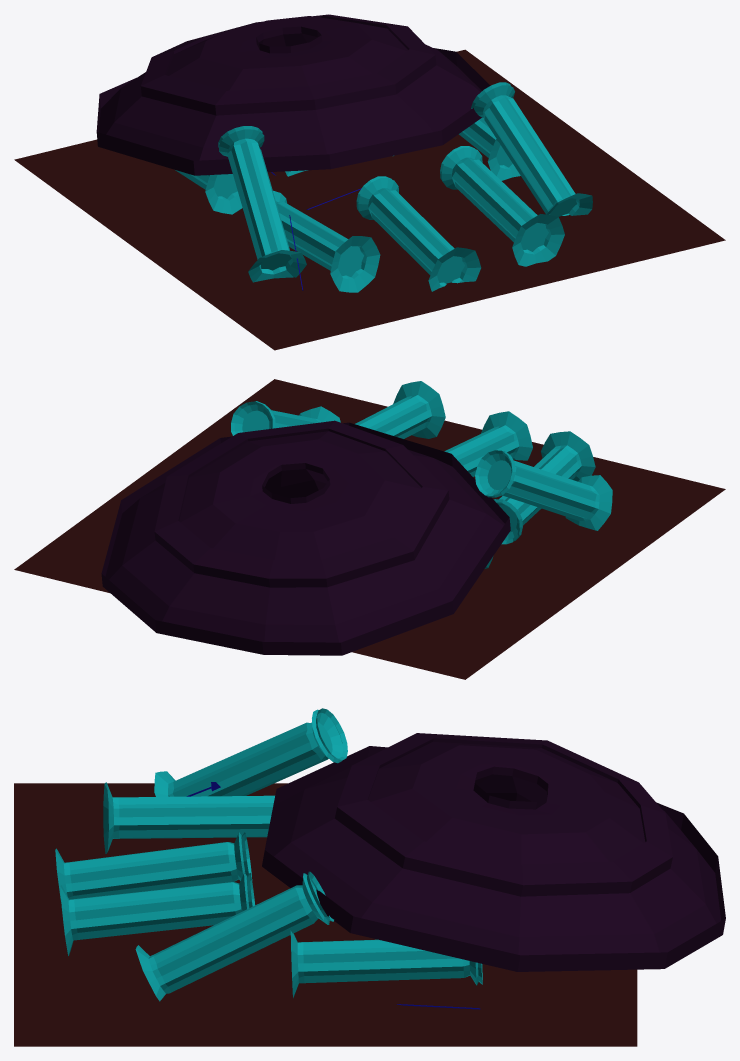
Rendered from SpearYard3d.obj.
The picture shows the model from 3 angles, top to bottom: view 1: azimuth 30°, elevation 25°; view 2: azimuth 150°, elevation 25°; view 3: azimuth 270°, elevation 25°; orthographic projection. The views are drawn at different scales.
Visible parts, largest first — view 1: Plane, Plane.012_Plane.013, Plane.004_Plane.015, Plane.002, Plane.005_Plane.016, Plane.003_Plane.014, Plane.001_Plane.012, Plane.006_Plane.017, Plane.009_Plane.020; view 2: Plane.012_Plane.013, Plane, Plane.002, Plane.004_Plane.015, Plane.001_Plane.012, Plane.003_Plane.014, Plane.005_Plane.016; view 3: Plane.012_Plane.013, Plane, Plane.005_Plane.016, Plane.004_Plane.015, Plane.003_Plane.014, Plane.002, Plane.001_Plane.012, Plane.006_Plane.017.
Part boxes in pixels (x1,y1,x2,y2): Plane: (14, 49, 725, 350); Plane.012_Plane.013: (96, 14, 490, 175); Plane.004_Plane.015: (440, 146, 564, 266); Plane.002: (218, 126, 306, 282); Plane.005_Plane.016: (471, 82, 592, 216); Plane.003_Plane.014: (356, 176, 481, 291); Plane.001_Plane.012: (273, 190, 380, 292); Plane.006_Plane.017: (459, 118, 520, 180); Plane.009_Plane.020: (175, 170, 242, 214); Plane.012_Plane.013: (101, 420, 510, 655); Plane: (14, 379, 725, 679); Plane.002: (475, 450, 612, 530); Plane.004_Plane.015: (355, 381, 445, 438); Plane.001_Plane.012: (493, 431, 595, 544); Plane.003_Plane.014: (444, 411, 532, 476); Plane.005_Plane.016: (231, 401, 340, 435); Plane.012_Plane.013: (262, 733, 725, 971); Plane: (14, 783, 637, 1046); Plane.005_Plane.016: (135, 871, 333, 1001); Plane.004_Plane.015: (60, 872, 254, 955); Plane.003_Plane.014: (55, 832, 252, 901); Plane.002: (154, 708, 347, 796); Plane.001_Plane.012: (103, 782, 274, 853); Plane.006_Plane.017: (290, 930, 482, 998).
Bounding box in the file's own units: 1.34 × 0.369 × 1.53.
